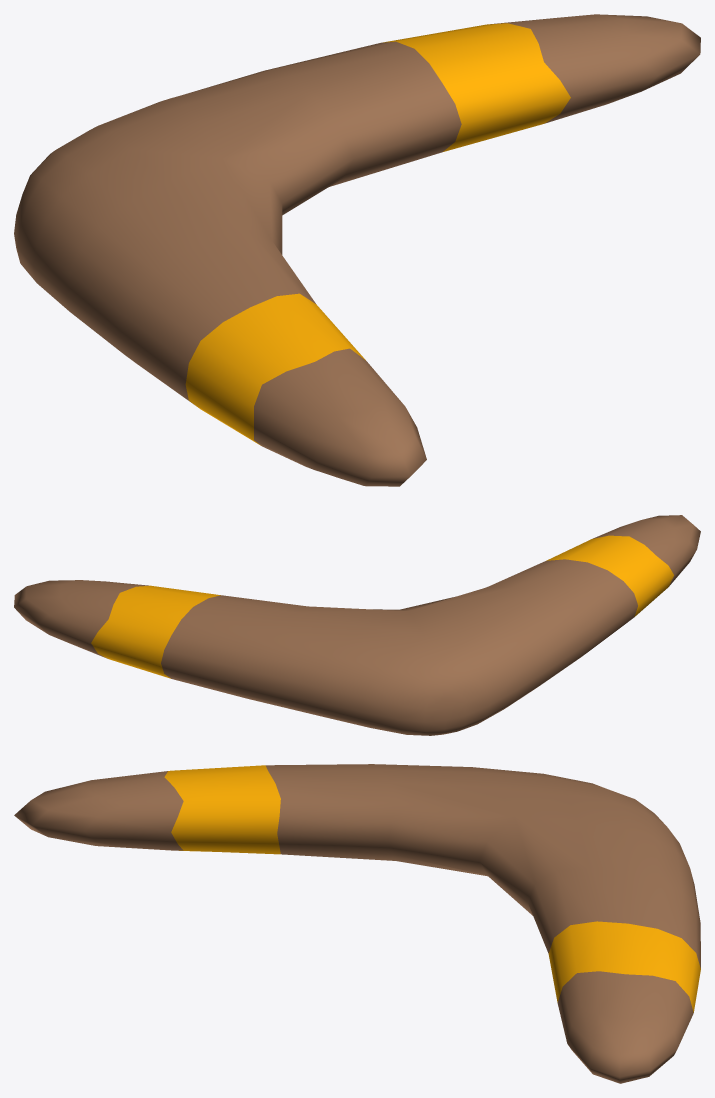
File: boomerang.fbx
The picture shows the model from 3 angles, top to bottom: view 1: azimuth 30°, elevation 25°; view 2: azimuth 150°, elevation 25°; view 3: azimuth 270°, elevation 25°; orthographic projection. The views are drawn at different scales.
Visible parts, largest first — view 1: boomerang; view 2: boomerang; view 3: boomerang.
Boxes of the visible parts, x1=… form: boomerang: x1=14, y1=14, x2=700, y2=486; boomerang: x1=14, y1=515, x2=700, y2=735; boomerang: x1=14, y1=764, x2=700, y2=1083.
Size of the model in its own units: 23.56 by 3.46 by 23.56.
Materials: 1 (1 with a texture image).
